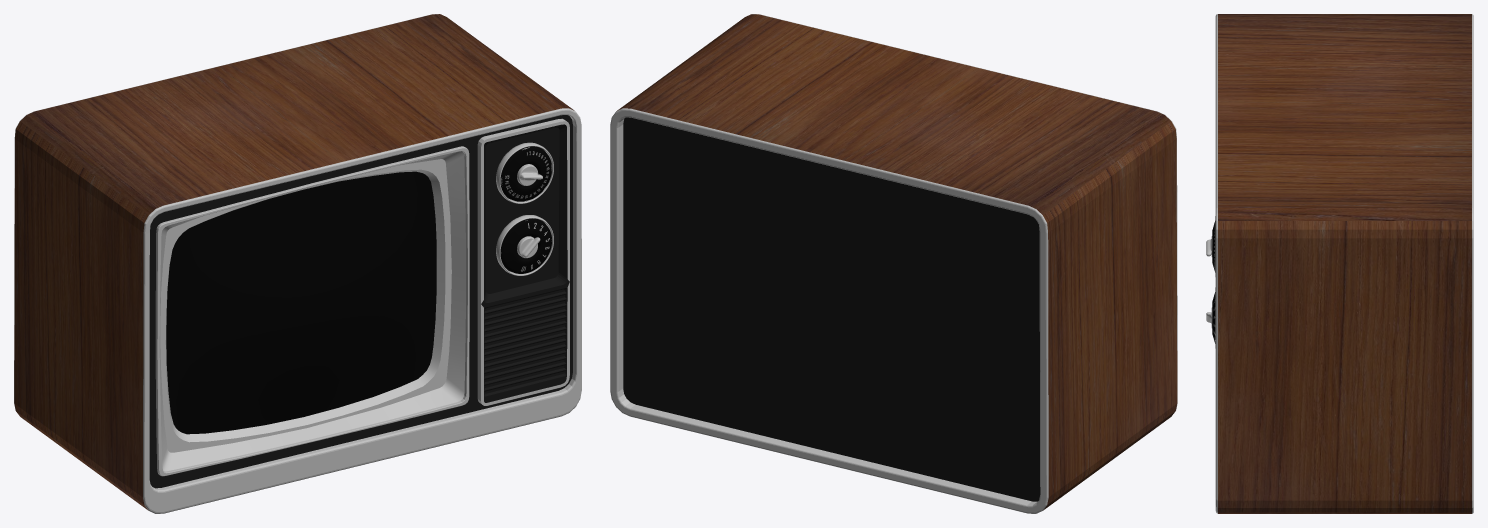
3 views of the same model, side by side, from view 1: azimuth 30°, elevation 25°; view 2: azimuth 150°, elevation 25°; view 3: azimuth 270°, elevation 25° (orthographic).
Visible parts, largest first — view 1: Cube, Plane, Cylinder.001, Cylinder.003, Cylinder.005, Cylinder.006; view 2: Cube; view 3: Cube.
Boxes of the visible parts, <box> form: Cube: <box>14,14,581,513</box>; Plane: <box>166,171,436,434</box>; Cylinder.001: <box>500,218,551,273</box>; Cylinder.003: <box>500,146,551,201</box>; Cylinder.005: <box>496,142,553,203</box>; Cylinder.006: <box>496,215,553,275</box>; Cube: <box>610,14,1177,513</box>; Cube: <box>1215,14,1473,513</box>.
Size of the model in its own units: 4.99 by 3.35 by 2.67.
6 materials, 3 textured.
